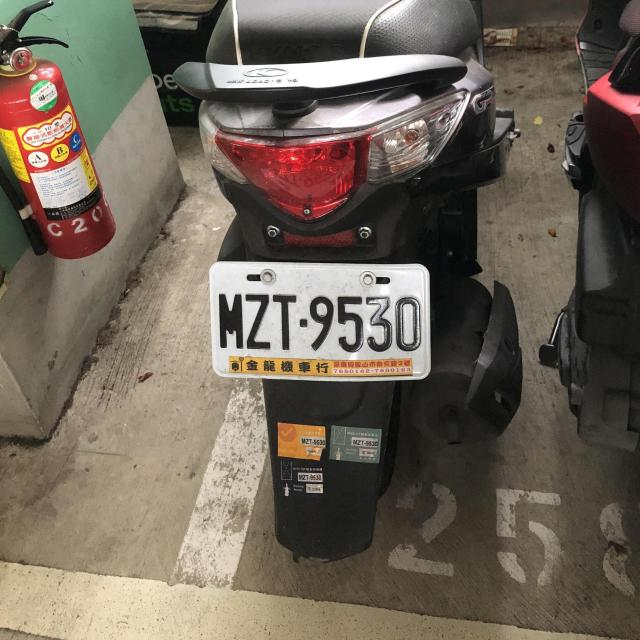W: (207, 258, 432, 387)
